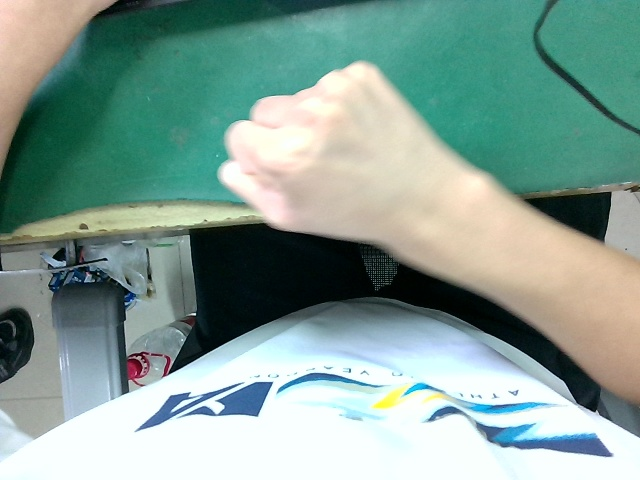stone: (211, 49, 424, 262)
